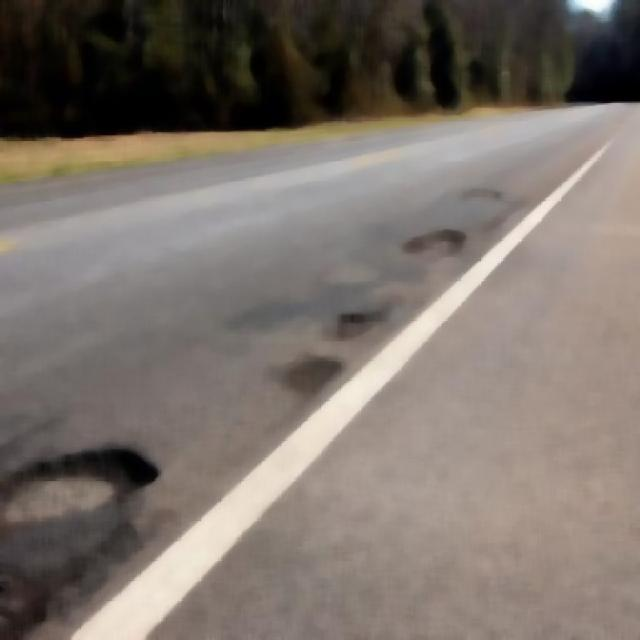Pothole: (0, 442, 171, 549), (282, 312, 351, 436), (394, 231, 481, 277)
